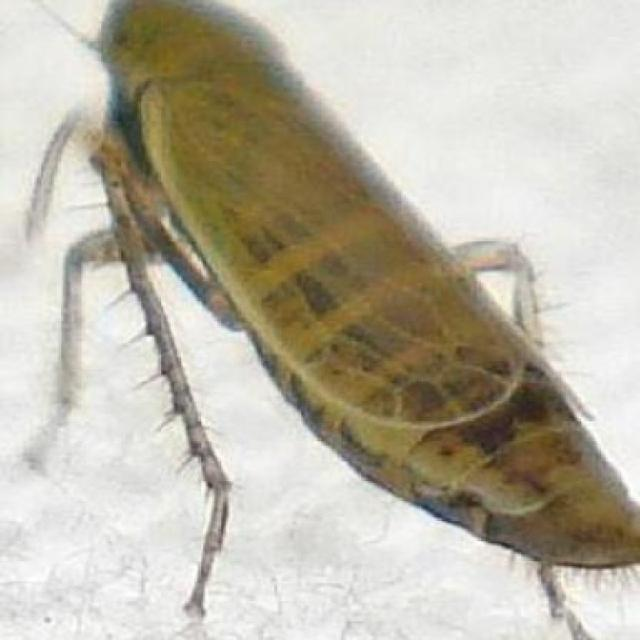green-leafhopper: (66, 4, 628, 573)
